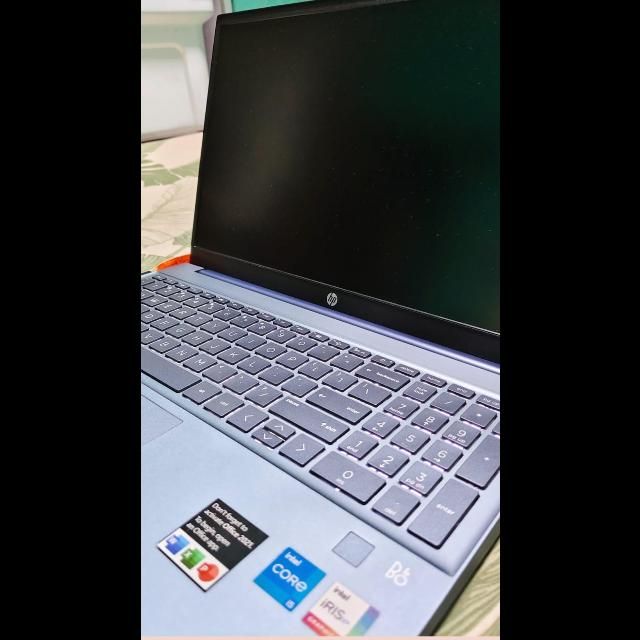laptop: (140, 2, 500, 624)
